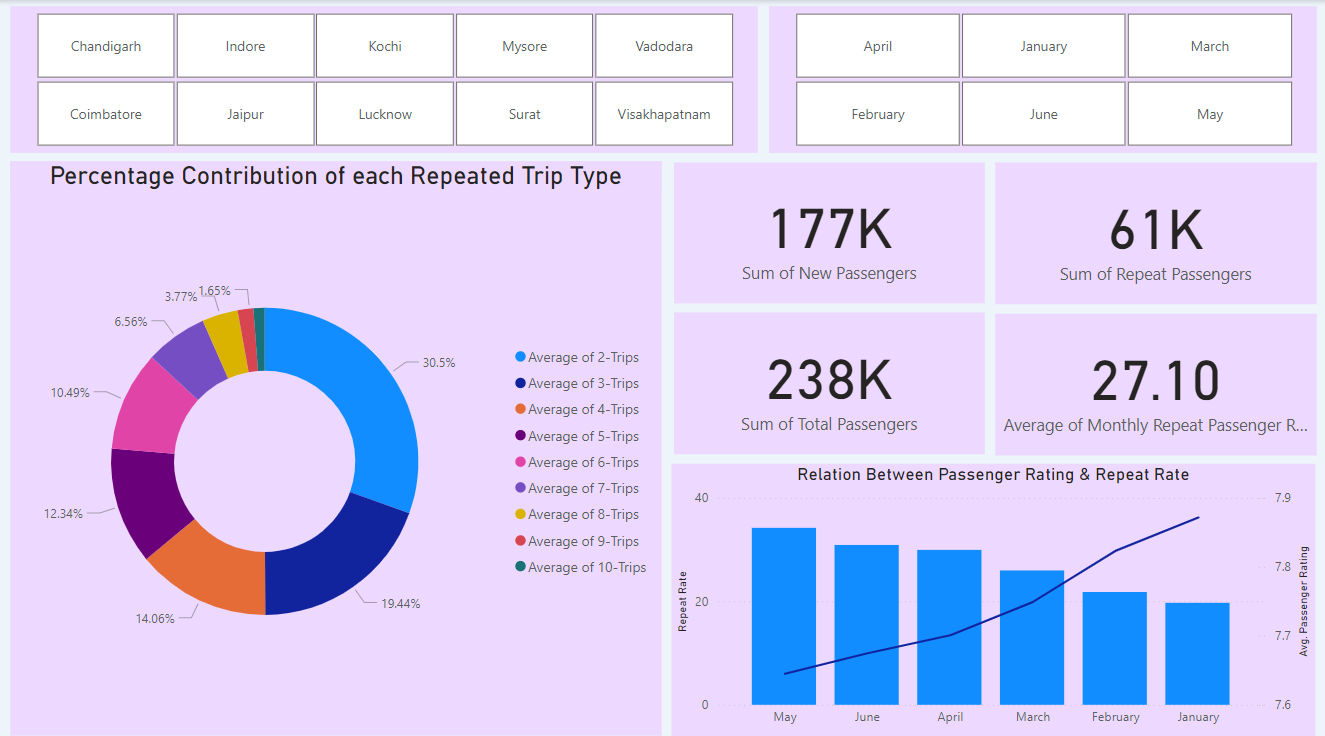

The page's visual inventory and layout, read from the dashboard file:
{"tool":"powerbi","page":{"name":"Repeat Rate","canvas":[1280,720],"ordinal":0},"visuals":[{"type":"slicer","fields":{"Values":["HC Q3.city_name"]},"box":[11.4,5.7,721.4,141.4],"z":0},{"type":"slicer","fields":{"Values":["HC Q6.month"]},"box":[742.9,5.7,528.6,141.4],"z":1000},{"type":"card","fields":{"Values":["Sum(HC Q6.total_passengers)"]},"box":[651.4,301.4,300,137.1],"z":2000},{"type":"card","fields":{"Values":["Sum(HC Q6.repeat_passengers)"]},"box":[961.4,157.1,310,137.1],"z":3000},{"type":"card","fields":{"Values":["Avg(HC Q6.monthly_repeat_passenger_rate)"]},"box":[961.4,302.9,310,137.1],"z":4000},{"type":"card","fields":{"Values":["Sum(HC Q6.New Passengers)"]},"box":[651.4,157.1,300,135.7],"z":5000},{"type":"lineStackedColumnComboChart","title":"Relation Between Passenger Rating & Repeat Rate","fields":{"Y":["Avg(self Q3.repeat_rate)"],"Y2":["Avg(self Q3.avg_passenger_rating)"],"Category":["self Q3.month"]},"box":[648.6,447.1,621.4,262.9],"z":6000},{"type":"donutChart","title":"Percentage Contribution of each Repeated Trip Type ","fields":{"Y":["Avg(HC Q3.2-Trips)","Avg(HC Q3.3-Trips)","Avg(HC Q3.4-Trips)","Avg(HC Q3.5-Trips)","Avg(HC Q3.6-Trips)","Avg(HC Q3.7-Trips)","Avg(HC Q3.8-Trips)","Avg(HC Q3.9-Trips)","Avg(HC Q3.10-Trips)"]},"box":[11.4,155.7,628.6,554.3],"z":8000}]}

Visuals, with their boxes in screenshot pixels (x1, y1, x2, y2), scaled from the page's 1280x720 canvas onto the 1325x736 screenshot:
slicer - HC Q3.city_name: l=12, t=6, r=759, b=150
slicer - HC Q6.month: l=769, t=6, r=1316, b=150
card - Sum(HC Q6.total_passengers): l=674, t=308, r=985, b=448
card - Sum(HC Q6.repeat_passengers): l=995, t=161, r=1316, b=301
card - Avg(HC Q6.monthly_repeat_passenger_rate): l=995, t=310, r=1316, b=450
card - Sum(HC Q6.New Passengers): l=674, t=161, r=985, b=299
"Relation Between Passenger Rating & Repeat Rate" lineStackedColumnComboChart: l=671, t=457, r=1315, b=726
"Percentage Contribution of each Repeated Trip Type " donutChart: l=12, t=159, r=662, b=726
